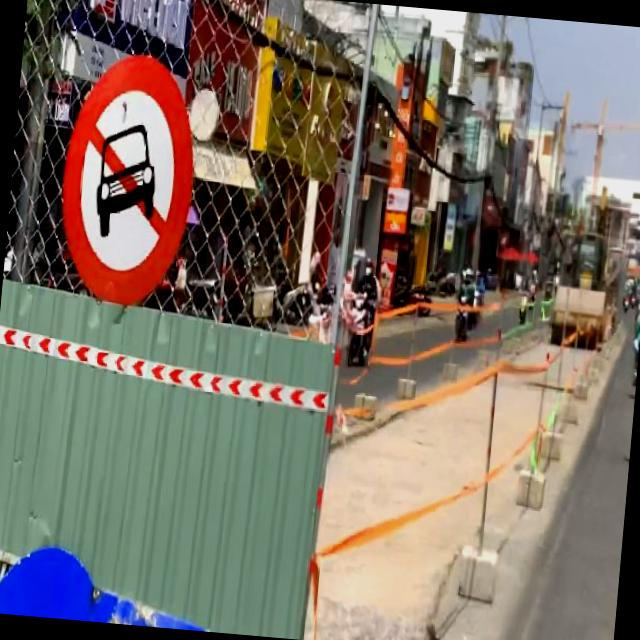Cam xe oto: (50, 46, 204, 315)
